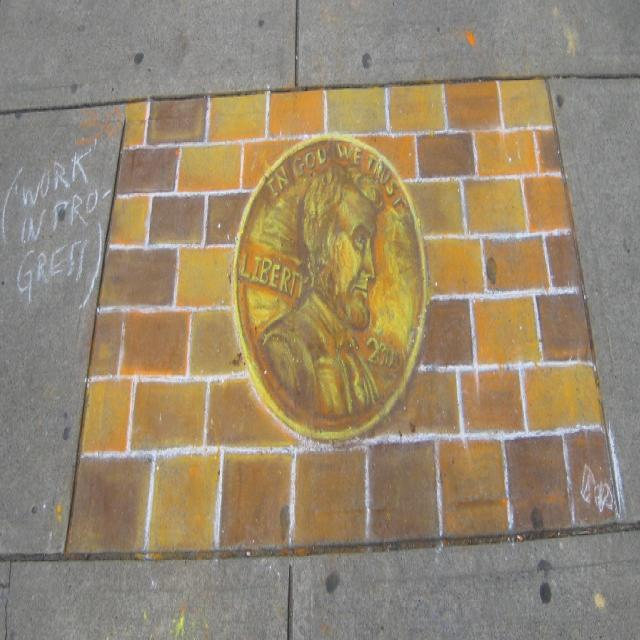Coin: (231, 132, 433, 431)
